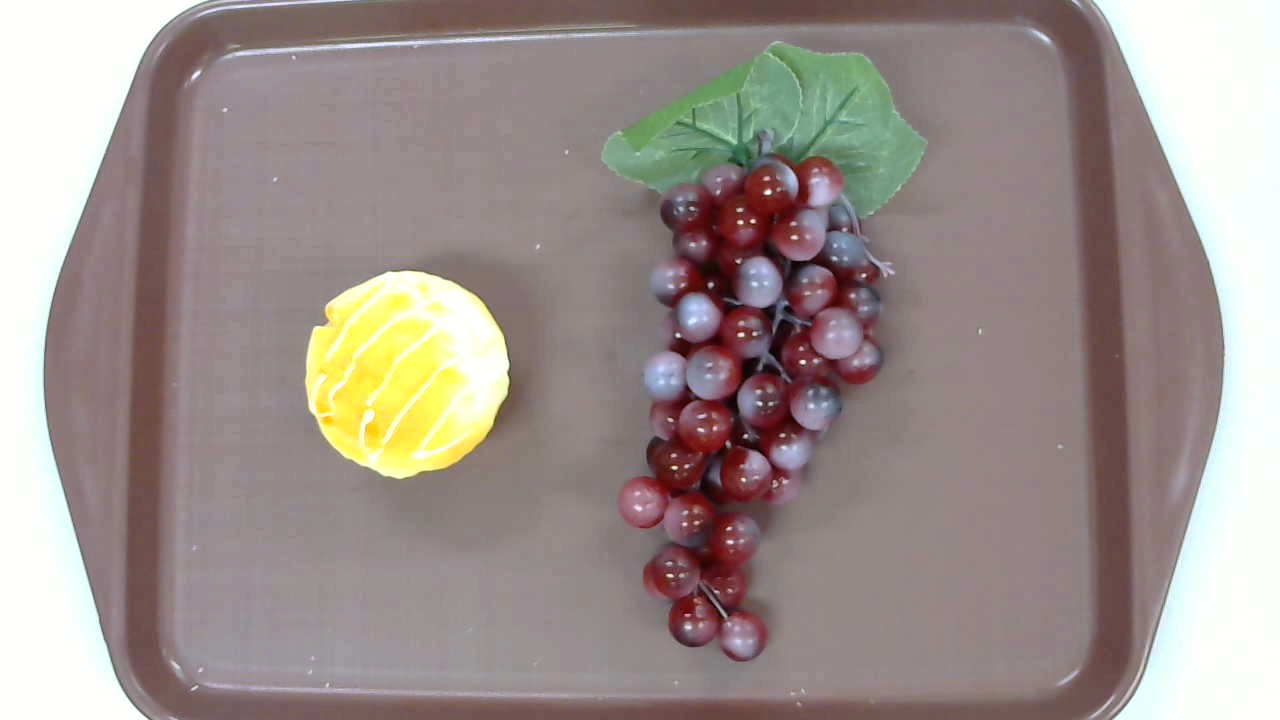cupcake: (303, 270, 513, 478)
grape: (600, 39, 927, 661)
